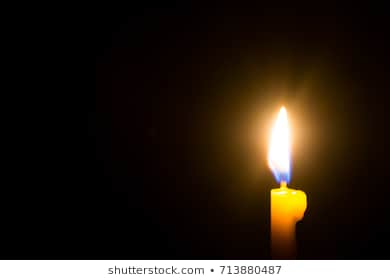Fire: (266, 104, 295, 187)
